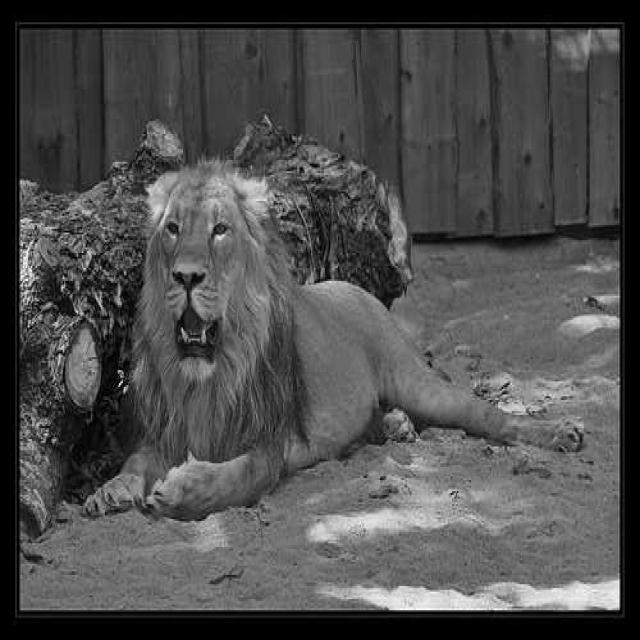Lion: (122, 135, 480, 513)
